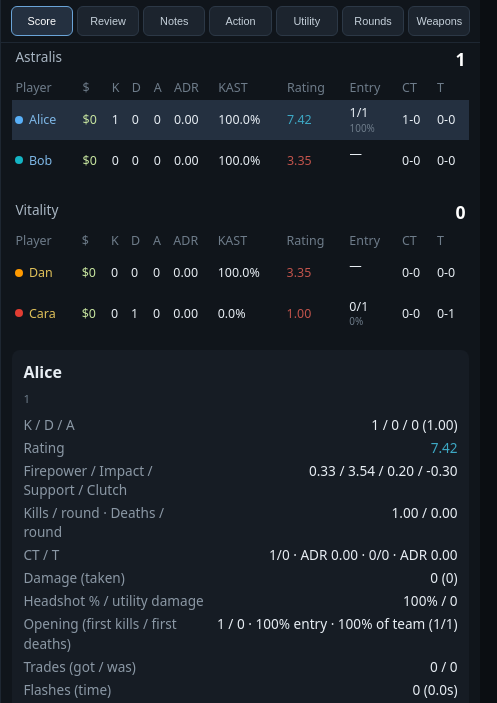
Sidebar › opens single-demo review from the sidebar
The width and height of the screenshot is (497, 703).
Click the button "Review".
click(108, 21)  # box [77,6,139,36]
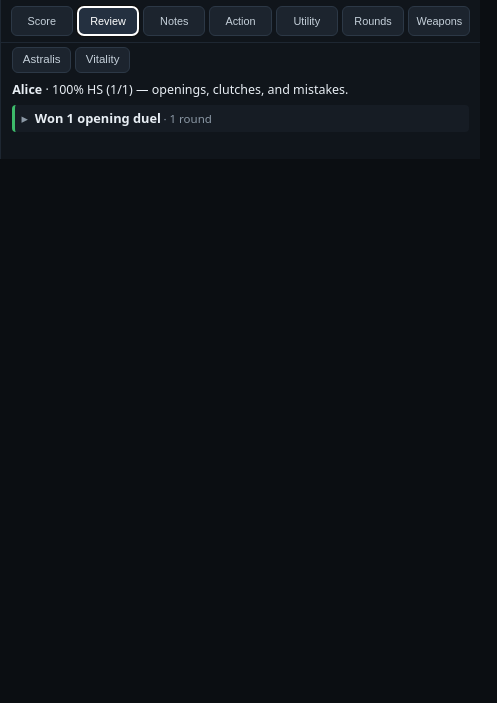
Expected: the text "Alice" is shown, [12,81,42,98]
Expected: the element named "Review team" is shown, [12,47,130,73]
Expected: the heading "Won 1 opening duel · 1 round" is shown, [35,109,212,127]
